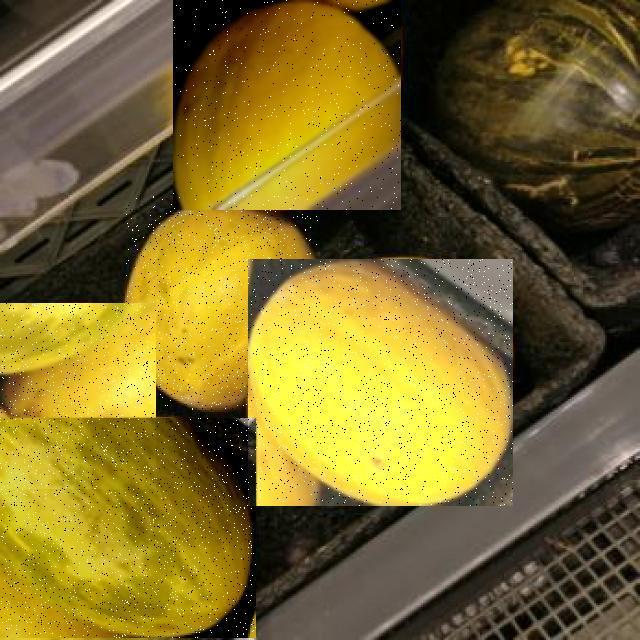Honey Dew: (248, 259, 513, 506), (0, 418, 256, 638), (173, 0, 401, 210), (127, 197, 319, 411), (0, 303, 156, 489)
